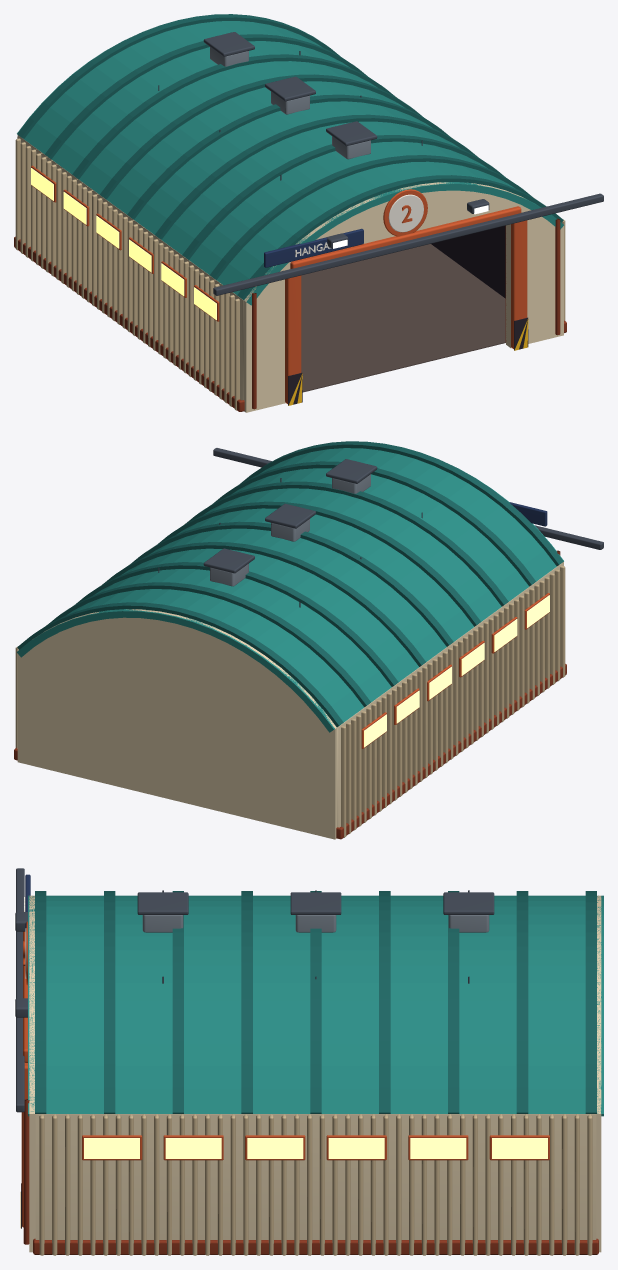
Rendered from dune_hangar.glb.
The picture shows the model from 3 angles, top to bottom: view 1: azimuth 30°, elevation 25°; view 2: azimuth 150°, elevation 25°; view 3: azimuth 270°, elevation 25°; orthographic projection. The views are drawn at different scales.
Visible parts, largest first — view 1: Hangar; view 2: Hangar; view 3: Hangar.
Boxes of the visible parts, x1=… form: Hangar: x1=14, y1=14, x2=603, y2=412; Hangar: x1=14, y1=441, x2=603, y2=839; Hangar: x1=14, y1=868, x2=603, y2=1255.
Bounding box in the file's own units: 22 × 11 × 23.15.
